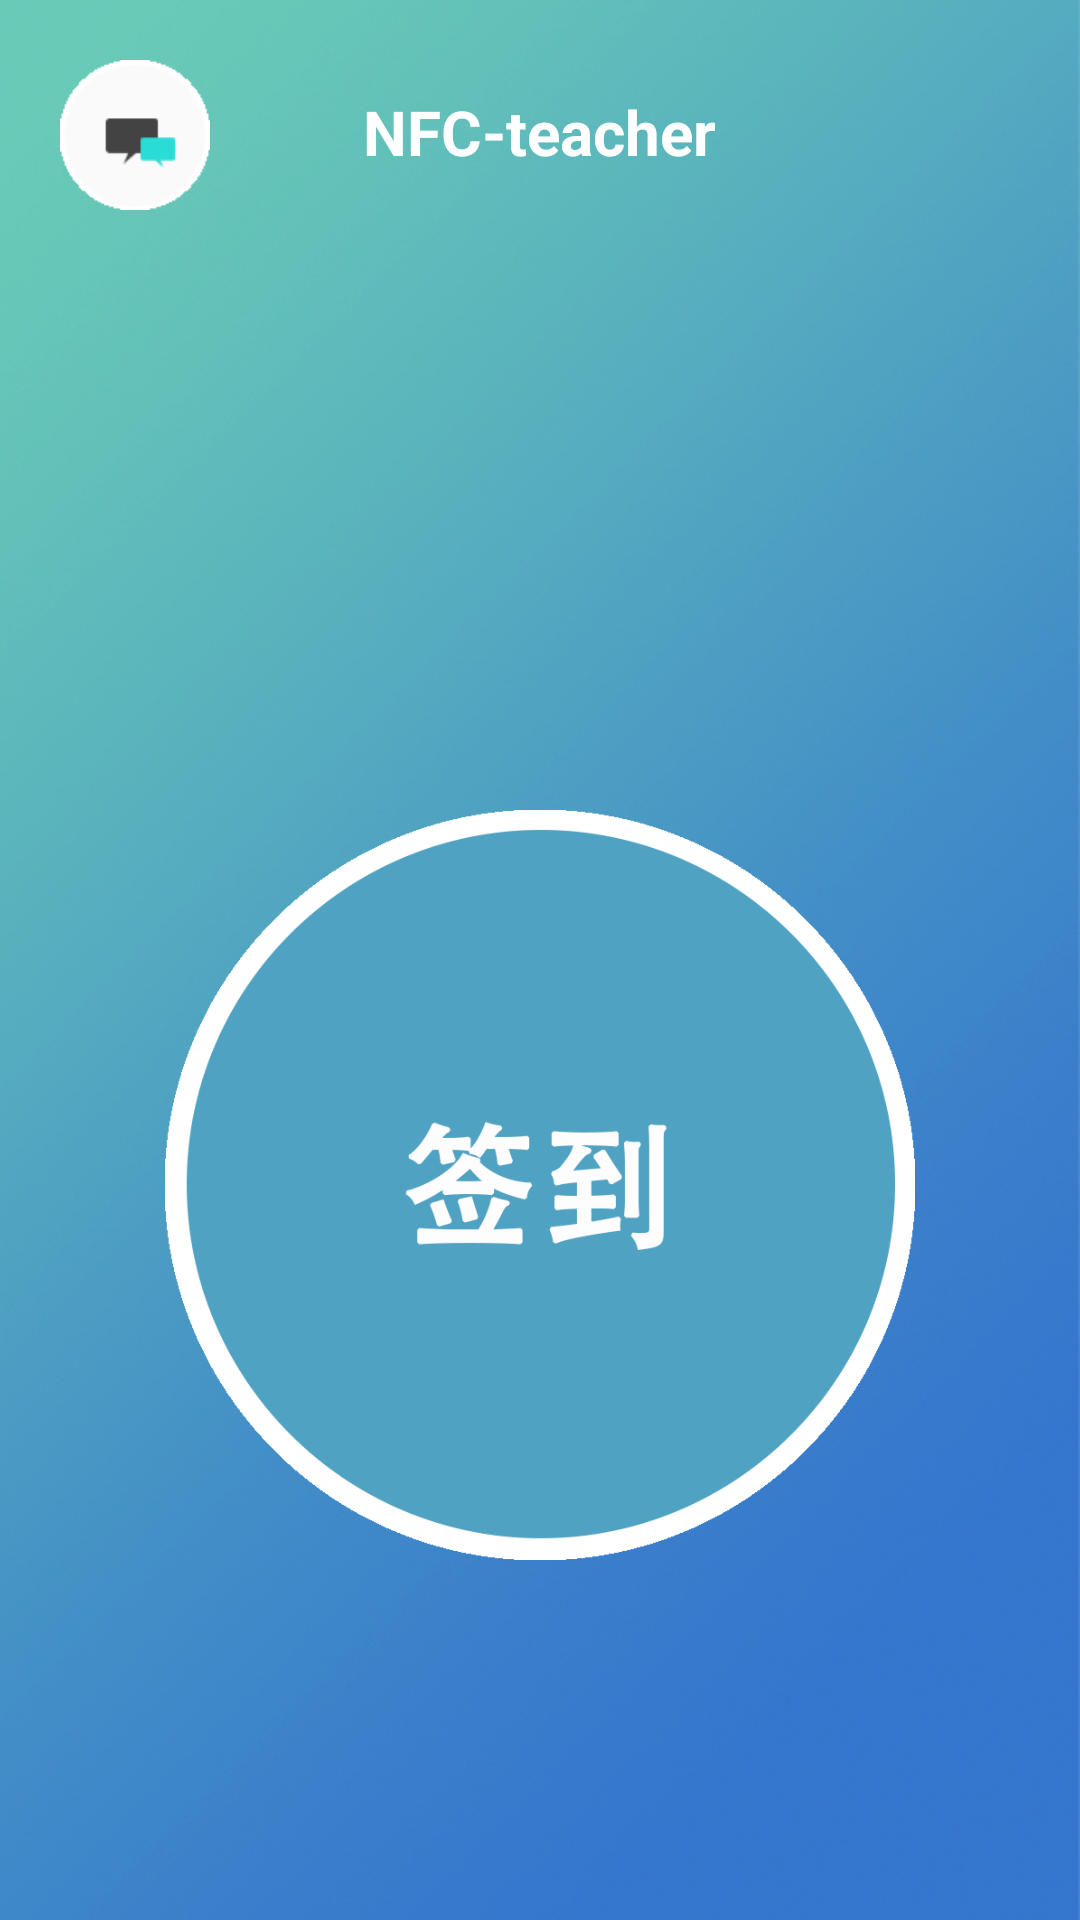

Point at icon controls on the screen. Image size 1080 × 1920, points as (x,y).
wechat: (135,135)
